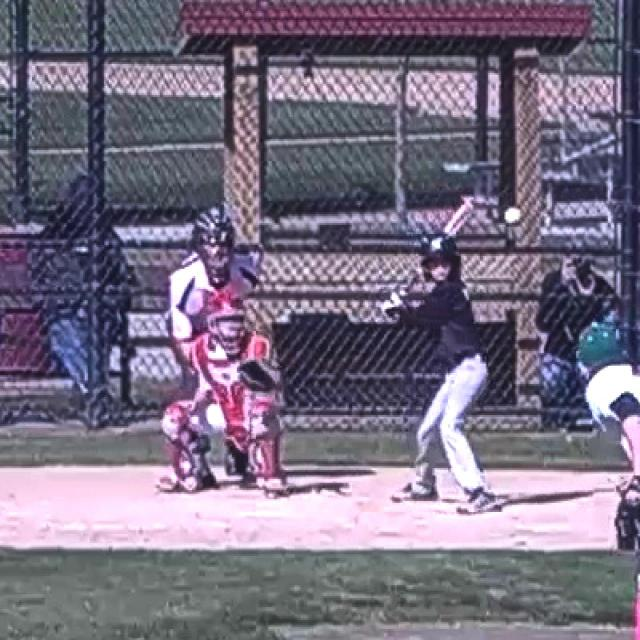baseball: (505, 208, 520, 224)
